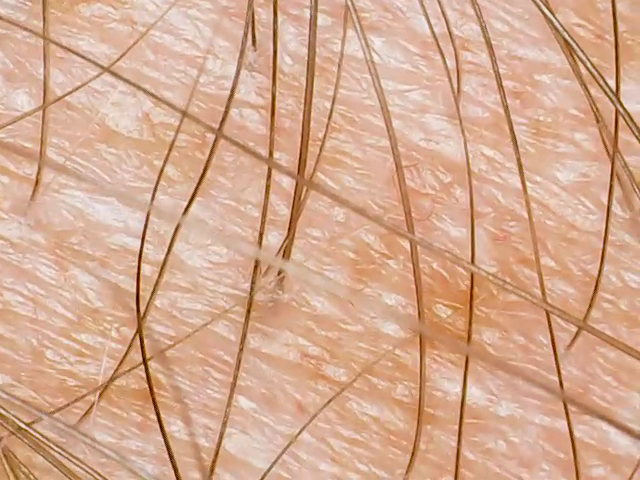folicle: (245, 259, 274, 289), (443, 86, 467, 112), (554, 335, 577, 362), (270, 270, 292, 296), (19, 192, 37, 219), (240, 34, 264, 54)
